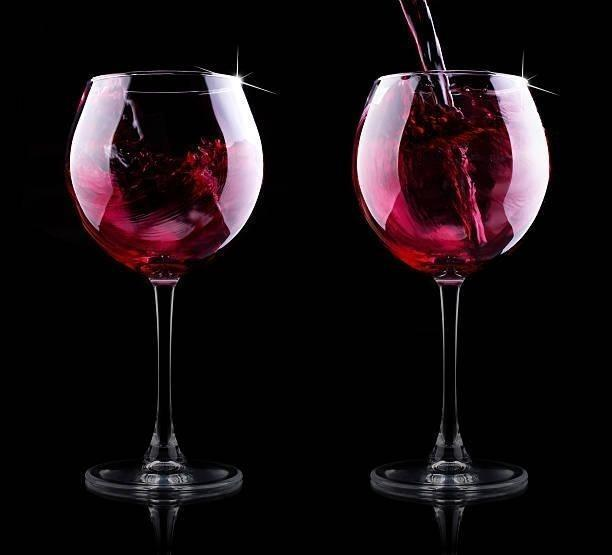glass-wine: (351, 67, 553, 503), (64, 68, 265, 503)
